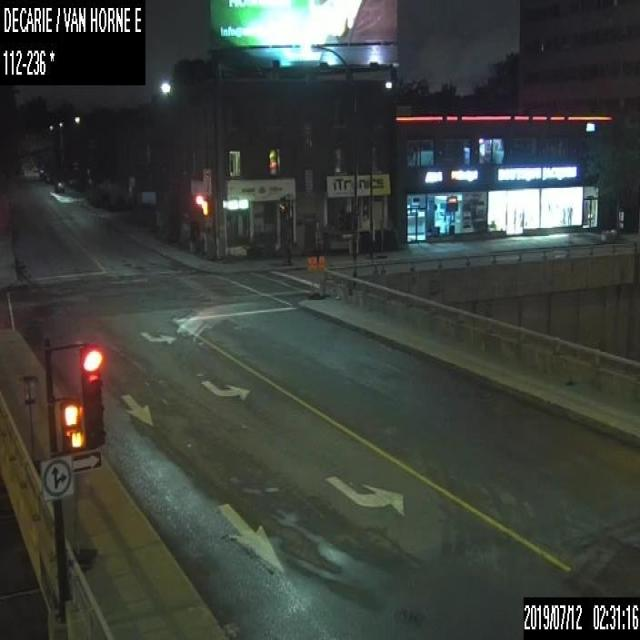construction: (305, 255, 317, 298), (318, 254, 324, 297)
vehicle: (54, 180, 64, 192)
